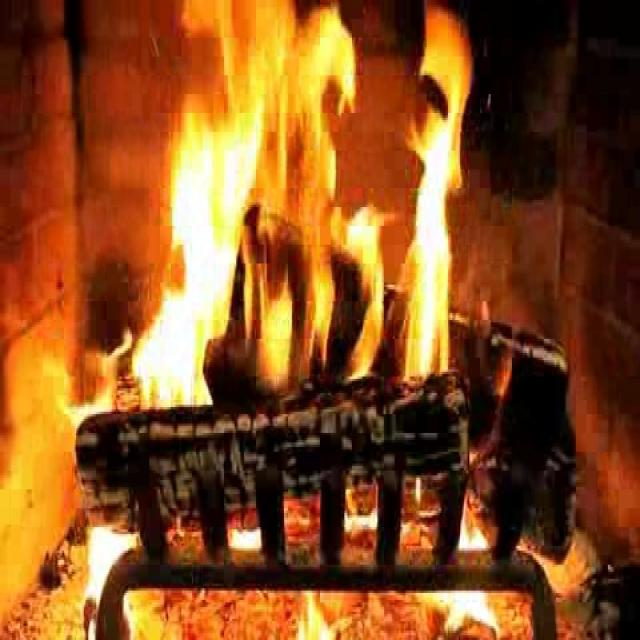fire: (138, 14, 470, 387)
